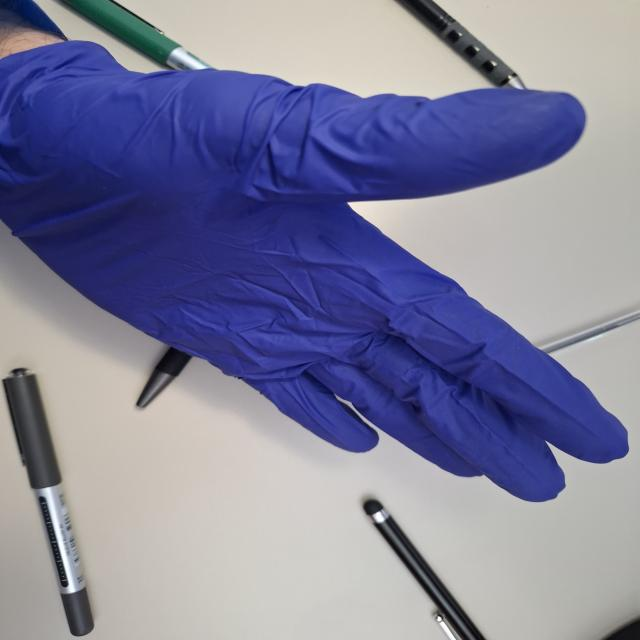glove_on: (0, 38, 634, 504)
